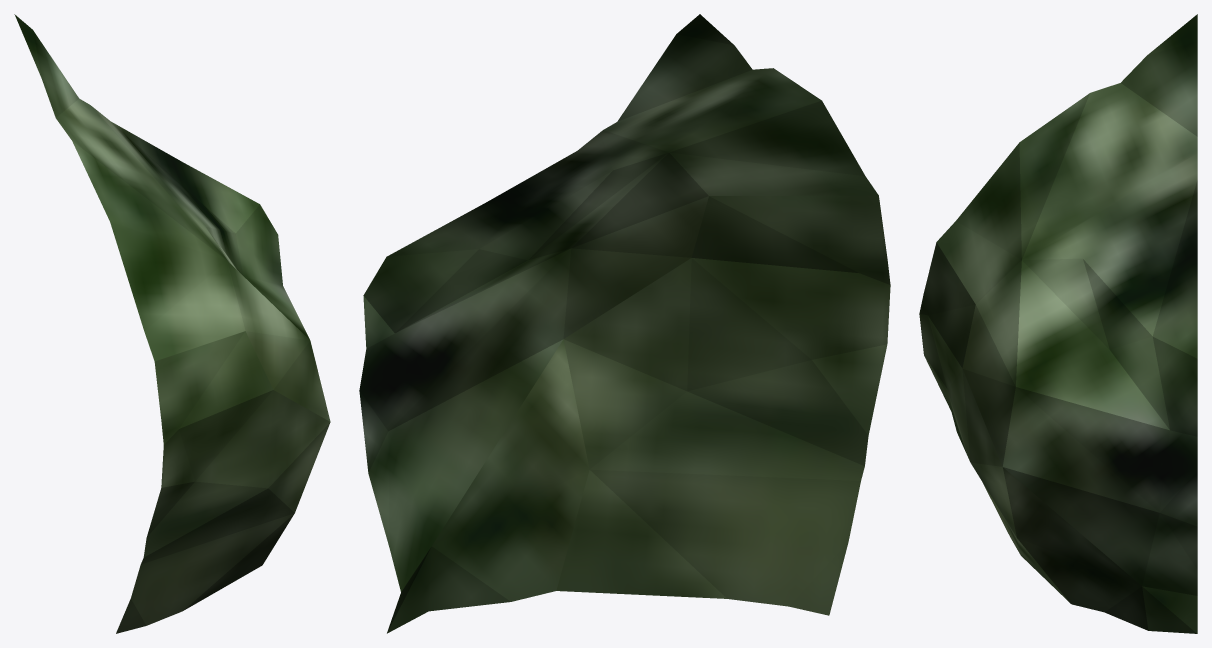
The picture shows the model from 3 angles, left to right: view 1: azimuth 30°, elevation 25°; view 2: azimuth 150°, elevation 25°; view 3: azimuth 270°, elevation 25°; orthographic projection. The views are drawn at different scales.
Bounding box in the file's own units: 0.3589 × 0.7013 × 0.3479.
Materials: 1 (1 with a texture image).
